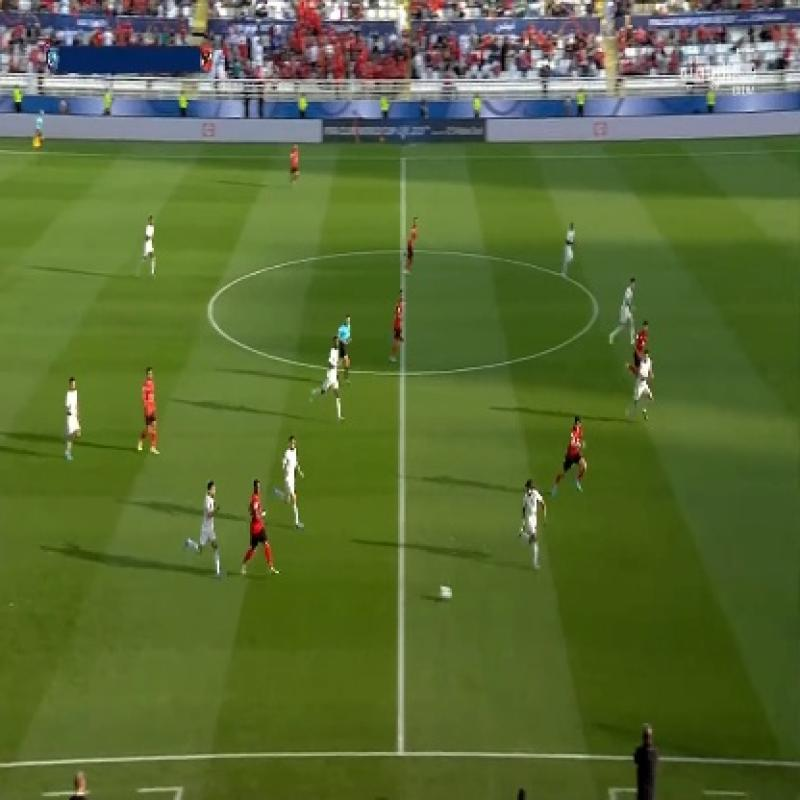13: (394, 144, 412, 169)
14: (388, 236, 414, 266)
15: (388, 352, 418, 392)
16: (384, 728, 418, 765)
c: (194, 286, 228, 328), (584, 290, 613, 330)
